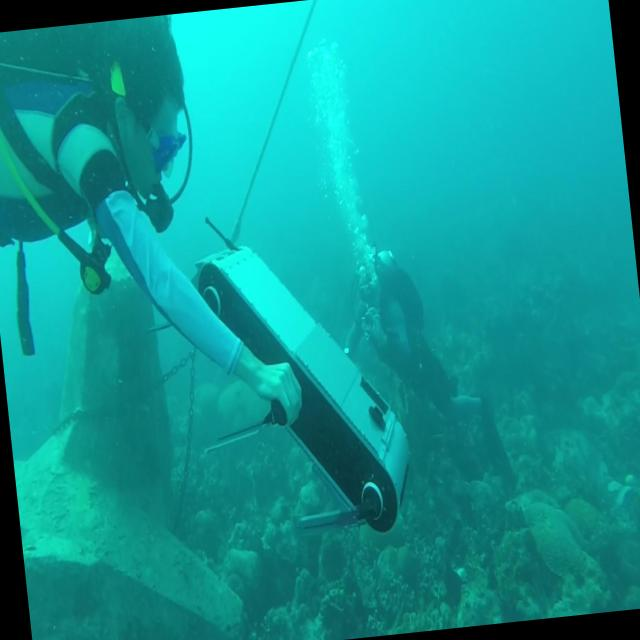human: (0, 4, 315, 544), (332, 232, 519, 514)
